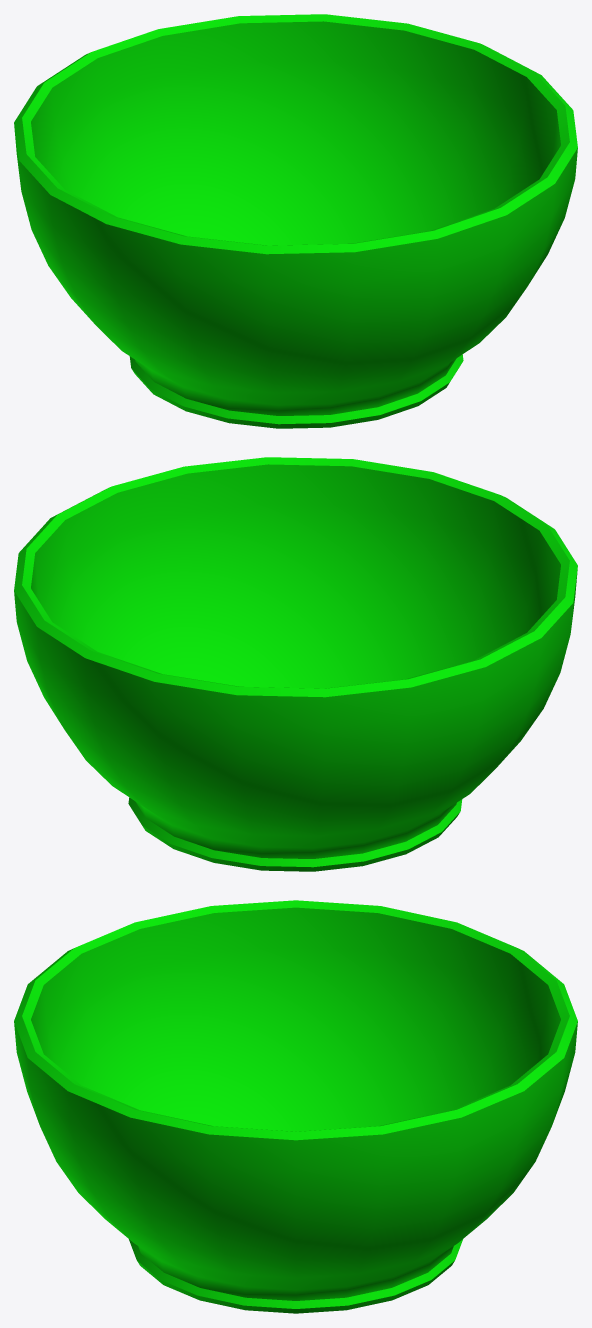
The model's file is Mesh_Bowl.fbx.
3 renders of one model, top to bottom at view 1: azimuth 30°, elevation 25°; view 2: azimuth 150°, elevation 25°; view 3: azimuth 270°, elevation 25°, orthographic.
Parts seen in each view (by area): view 1: Bowl; view 2: Bowl; view 3: Bowl.
Boxes of the visible parts, <box> form: Bowl: <box>14,14,577,428</box>; Bowl: <box>14,457,577,871</box>; Bowl: <box>14,900,577,1313</box>.
Bounding box in the file's own units: 1054 × 471 × 1054.
